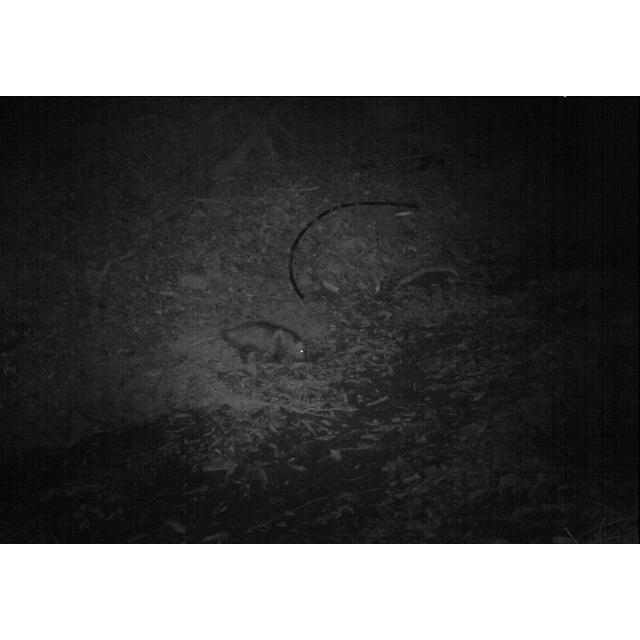animals: (215, 316, 308, 369)
